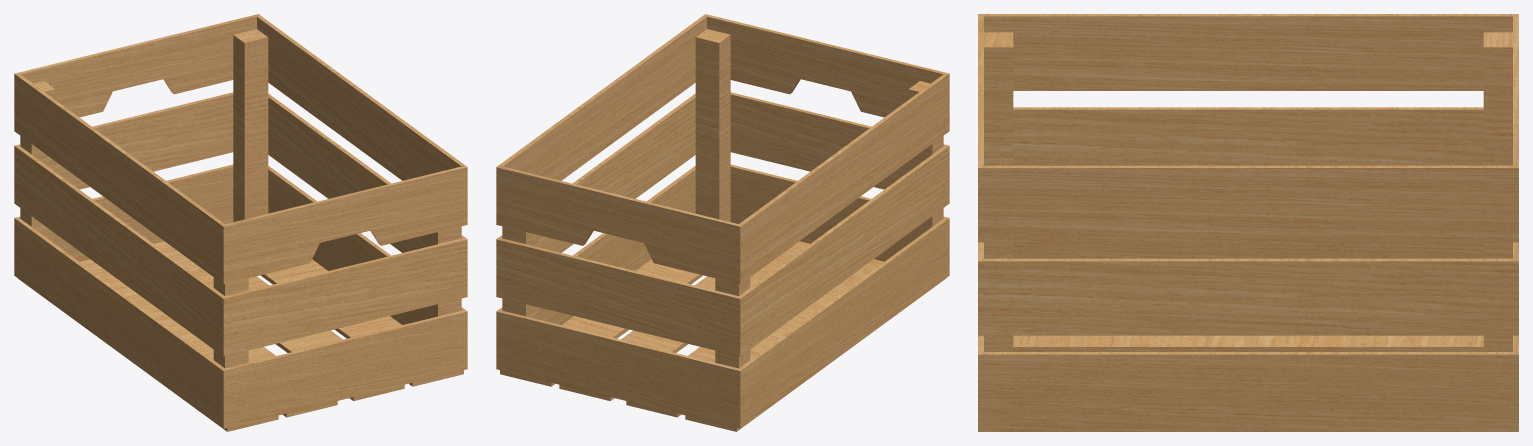
Rendered from Knagglig.fbx.
The picture shows the model from 3 angles, left to right: view 1: azimuth 30°, elevation 25°; view 2: azimuth 150°, elevation 25°; view 3: azimuth 270°, elevation 25°; orthographic projection. The views are drawn at different scales.
Parts seen in each view (by area): view 1: IKE160064; view 2: IKE160064; view 3: IKE160064.
Boxes of the visible parts, <box> form: IKE160064: <box>14,14,467,431</box>; IKE160064: <box>496,14,949,431</box>; IKE160064: <box>978,14,1518,431</box>.
Bounding box in the file's own units: 3100 × 2500 × 4600.
Materials: 1 (1 with a texture image).
